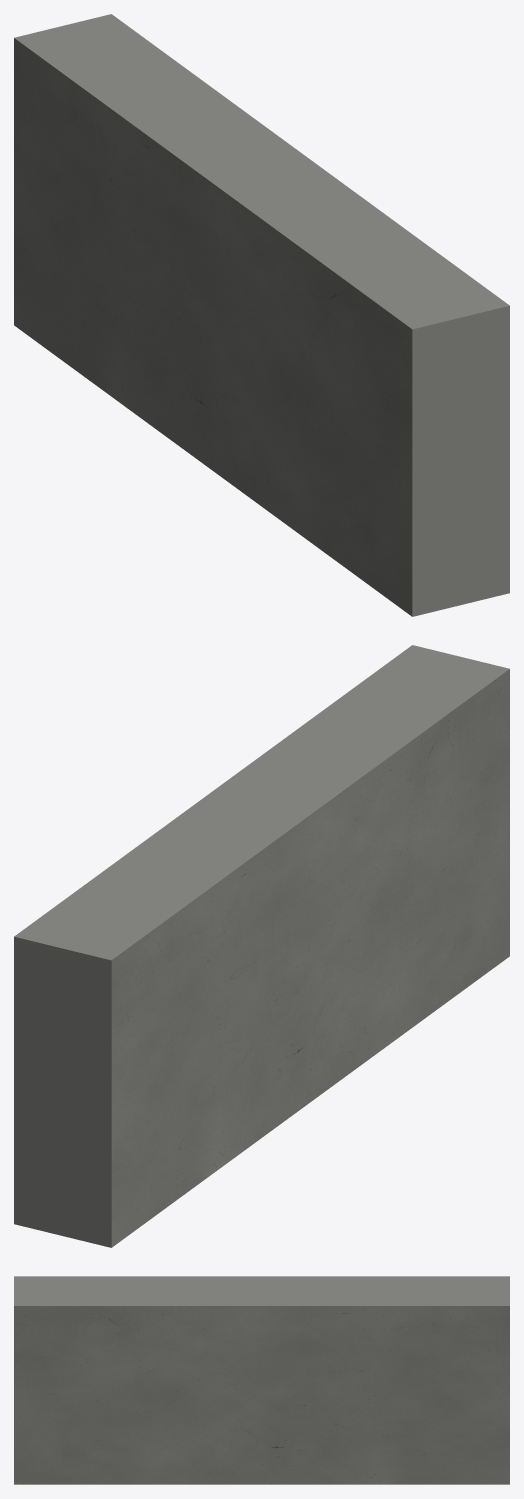
The model's file is concrete_wall.glb.
3 renders of one model, top to bottom at view 1: azimuth 30°, elevation 25°; view 2: azimuth 150°, elevation 25°; view 3: azimuth 270°, elevation 25°, orthographic. The views are drawn at different scales.
Parts seen in each view (by area): view 1: concrete_wall; view 2: concrete_wall; view 3: concrete_wall.
Part boxes in pixels (x1=…): concrete_wall: x1=14, y1=14, x2=509, y2=616; concrete_wall: x1=14, y1=645, x2=509, y2=1247; concrete_wall: x1=14, y1=1276, x2=509, y2=1484.
Size of the model in its own units: 4.1 by 11.55 by 29.02.
1 material, 1 textured.
